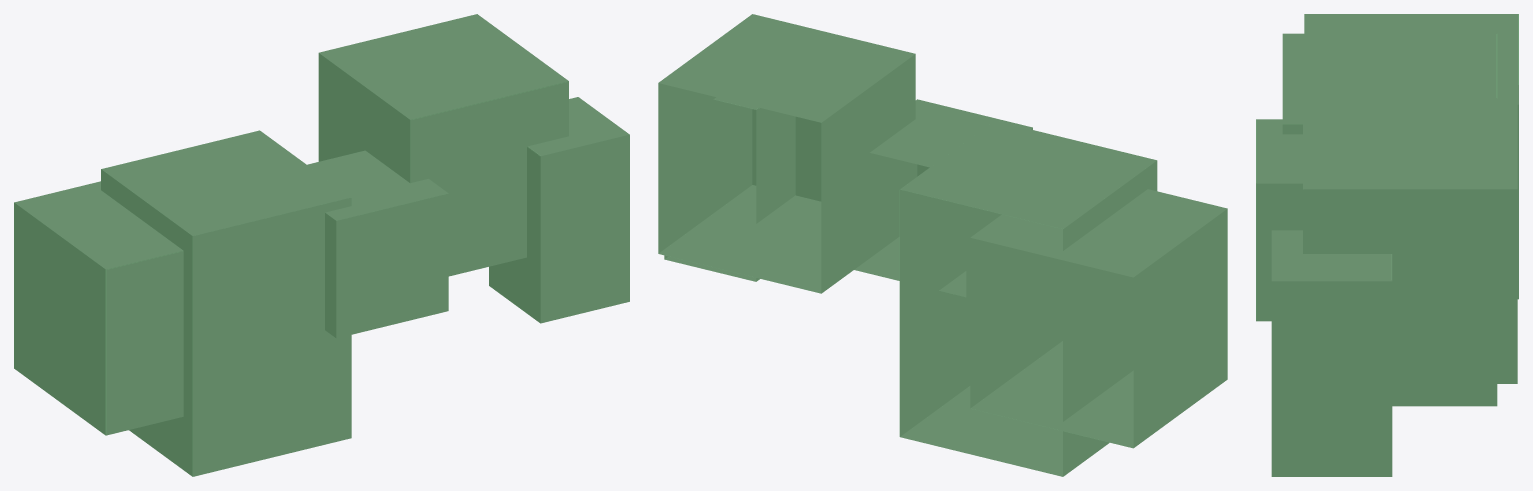
File: cubes.fbx
3 views of the same model, side by side, from view 1: azimuth 30°, elevation 25°; view 2: azimuth 150°, elevation 25°; view 3: azimuth 270°, elevation 25° (orthographic). The views are drawn at different scales.
Visible parts, largest first — view 1: Cube; view 2: Cube; view 3: Cube.
Boxes of the visible parts, bbox=[...] form: Cube: bbox=[14, 14, 629, 476]; Cube: bbox=[658, 14, 1227, 476]; Cube: bbox=[1256, 14, 1518, 476].
Size of the model in its own units: 2978 by 1649 by 1135.
